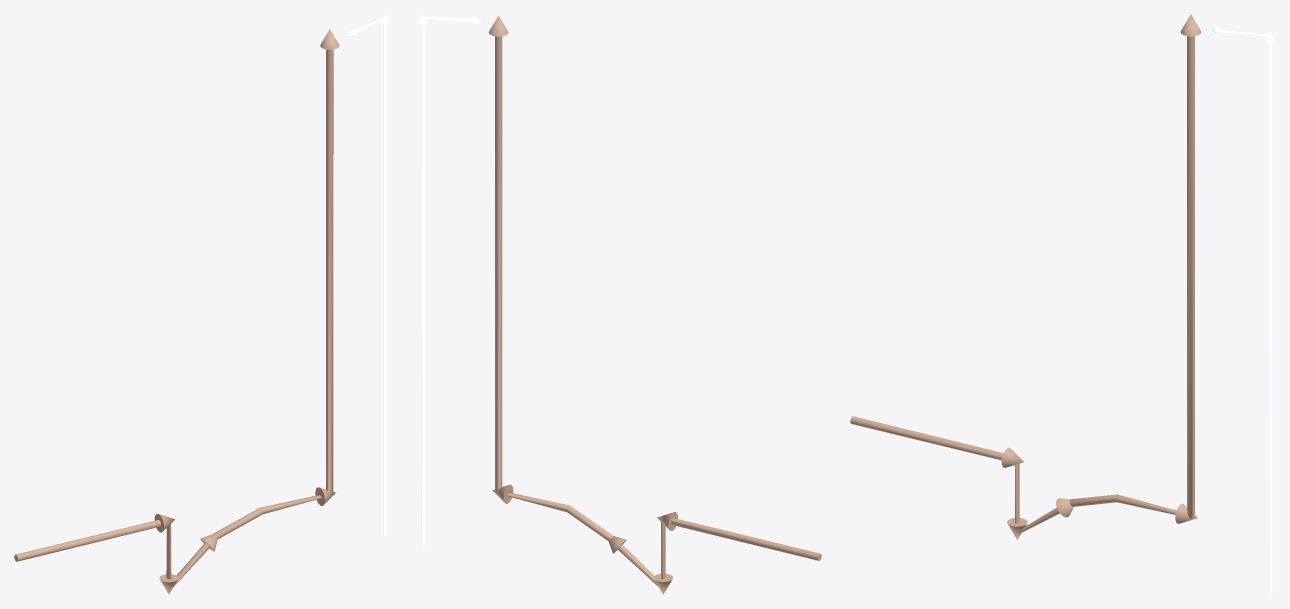
File: flare_stack_flow.glb
3 views of the same model, side by side, from view 1: azimuth 30°, elevation 25°; view 2: azimuth 150°, elevation 25°; view 3: azimuth 330°, elevation 25° (orthographic). The views are drawn at different scales.
Parts seen in each view (by area): view 1: flare_gas, steam; view 2: flare_gas, steam; view 3: flare_gas, steam.
Boxes of the visible parts, left/top/right/bottom form: flare_gas: left=14, top=29, right=339, bottom=594; steam: left=347, top=14, right=389, bottom=535; flare_gas: left=489, top=15, right=821, bottom=594; steam: left=418, top=14, right=481, bottom=548; flare_gas: left=850, top=14, right=1201, bottom=539; steam: left=1209, top=26, right=1275, bottom=594.
Bounding box in the file's own units: 4.75 × 6.28 × 0.356.
